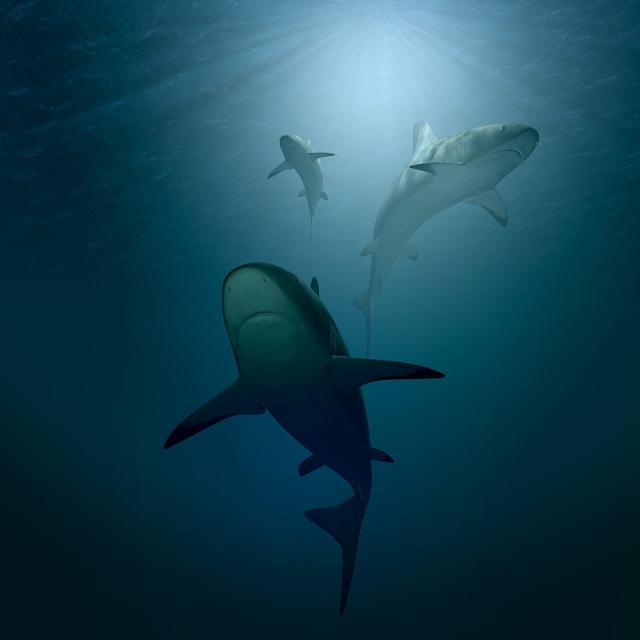Carnivorous: (164, 263, 444, 616), (352, 124, 540, 342), (266, 135, 333, 251)
